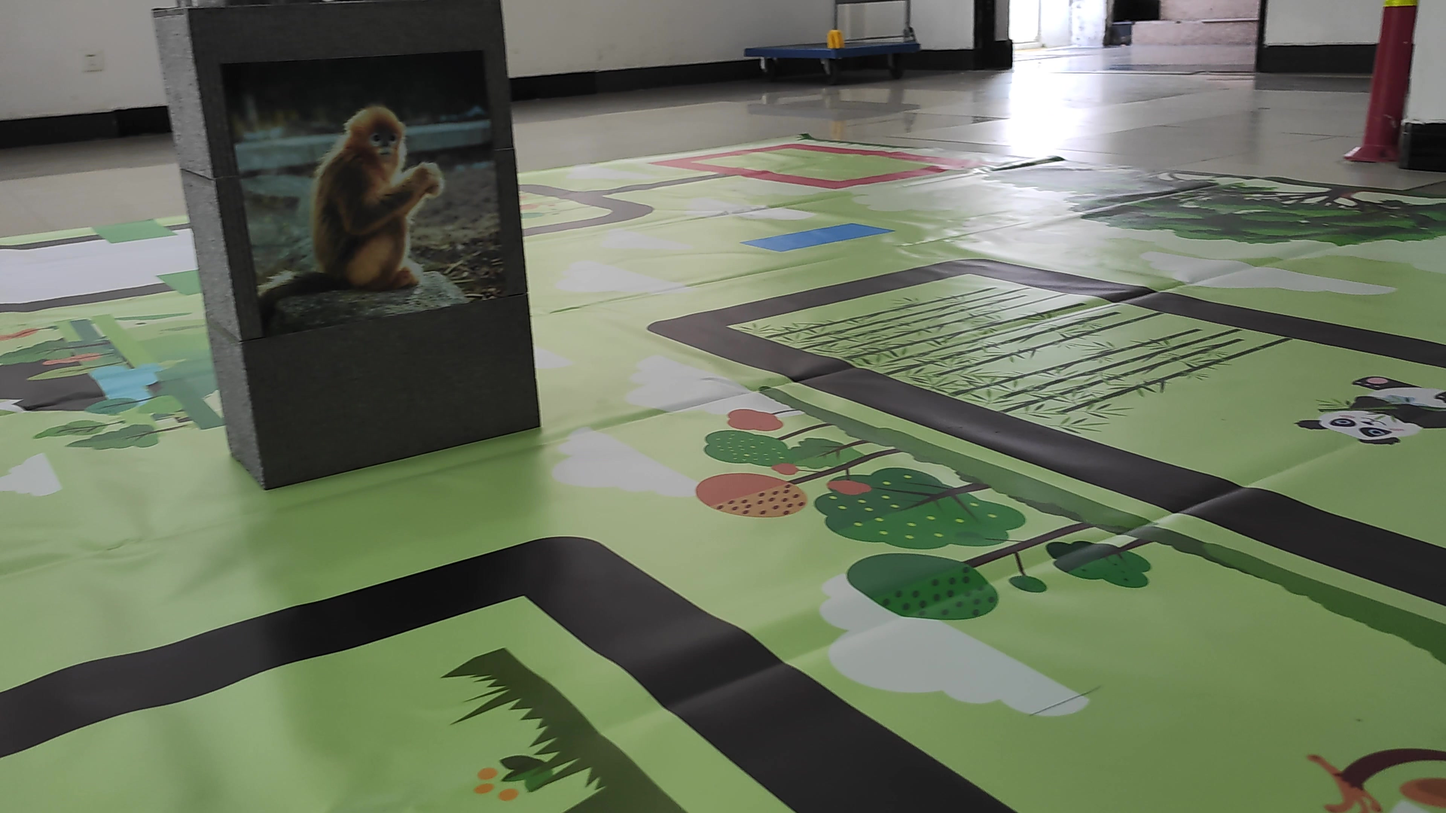monkey: (256, 87, 506, 336)
